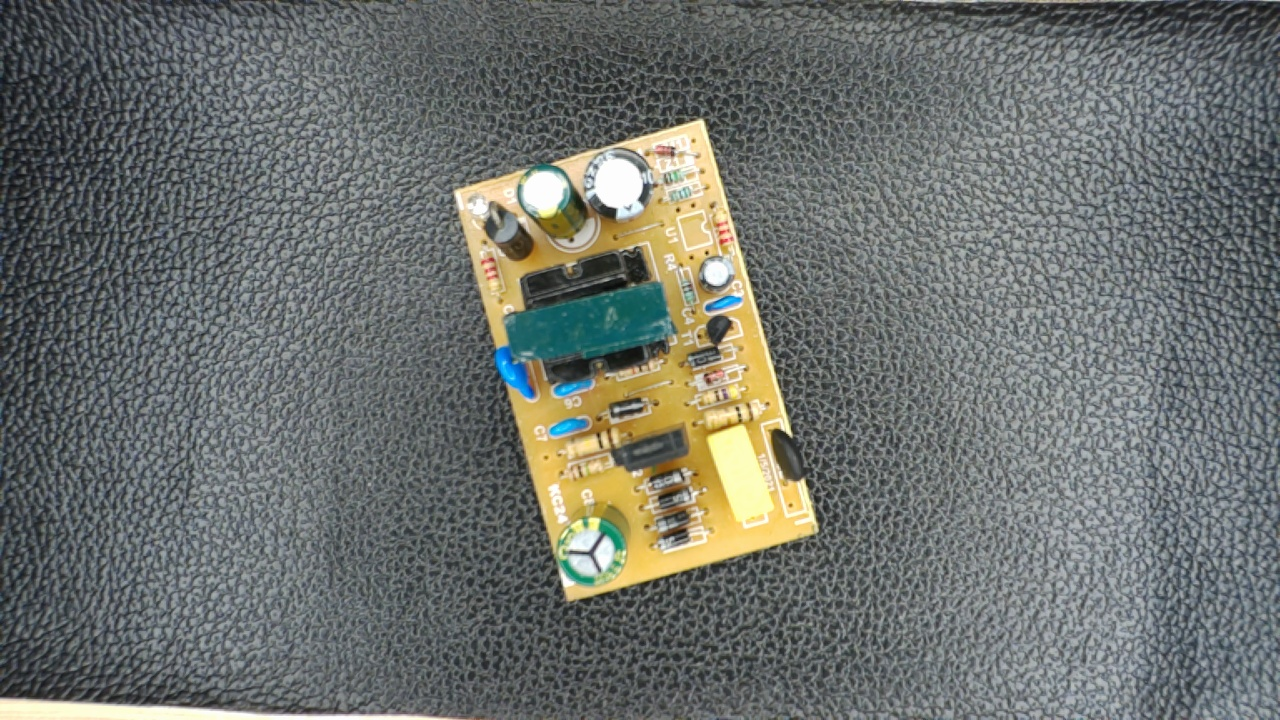fuse: (761, 419, 810, 498)
hv_capacitor: (552, 506, 635, 593)
mov: (489, 338, 543, 408)
